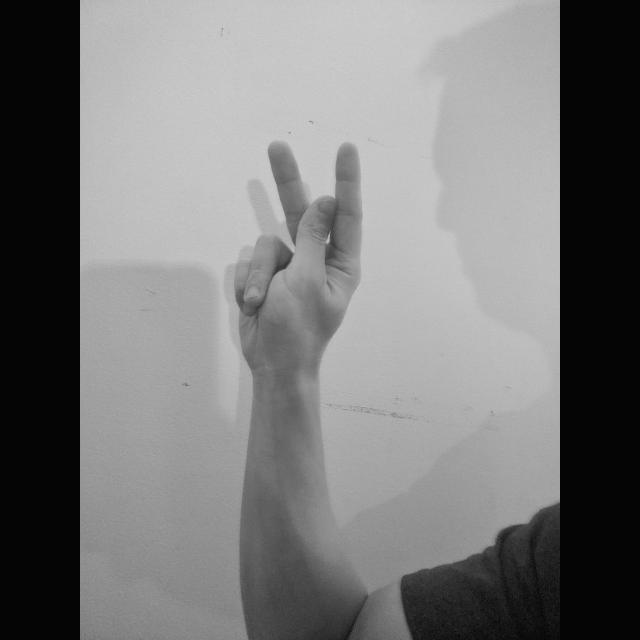K: (228, 132, 368, 374)
